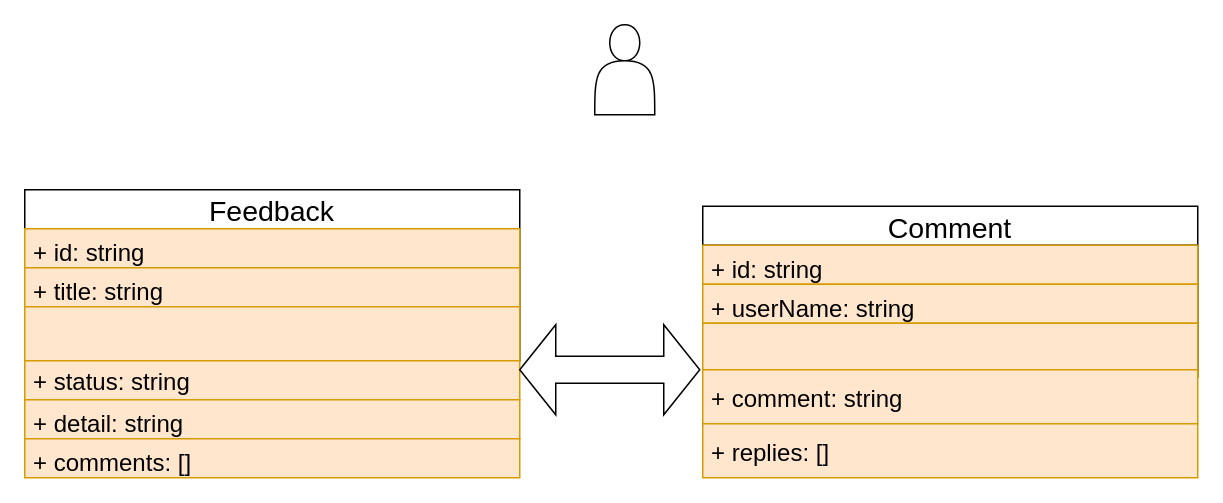
Image size: 1223x503. Some labels were removed from this diagram. Here are the shapes that lost their labels. From the top down, the centre of each, then its label:
At point 271,333: "+ category: string".
At point 949,349: "+ userEmail: string".
